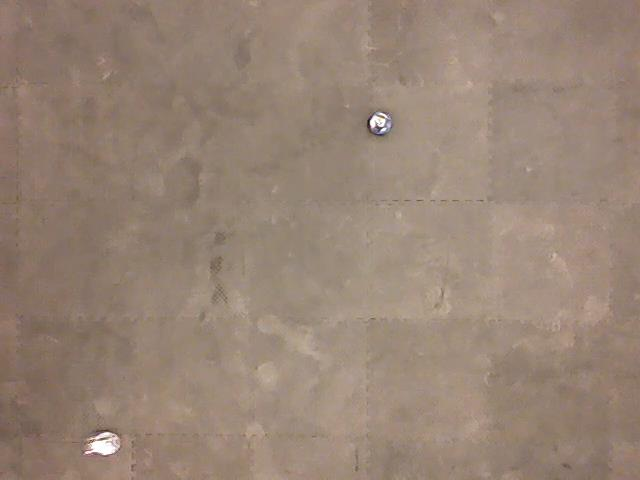Agent: (83, 426, 124, 457), (364, 109, 396, 139)
